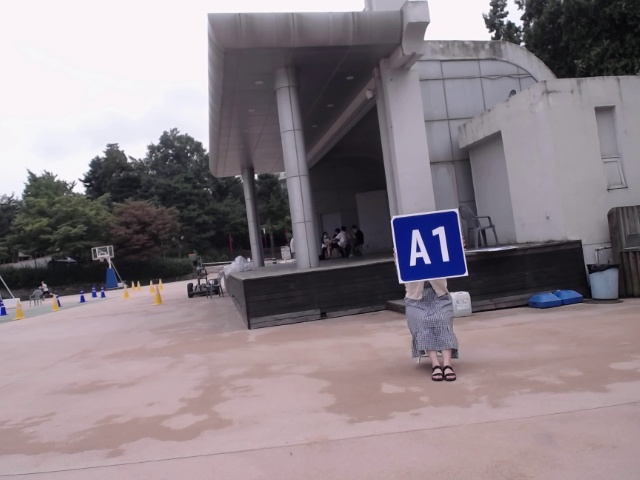delivery_a1: (391, 209, 468, 283)
